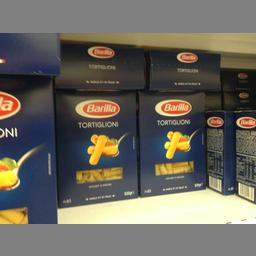pasta: (52, 88, 138, 207), (136, 90, 209, 196)
